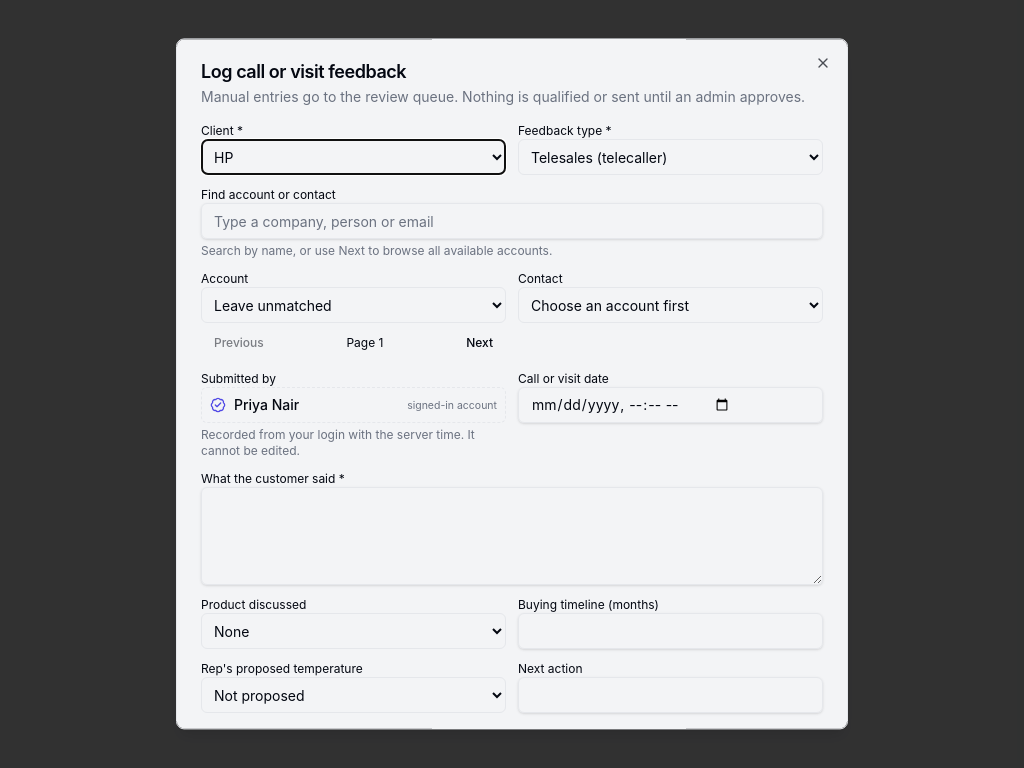
shows a contact-fetch error rather than an empty list or contacts from another account
The width and height of the screenshot is (1024, 768).
Select "Abbott" in the dropdown with test id "select-manual-account" at coordinates (354, 305), box [201,287,506,323]
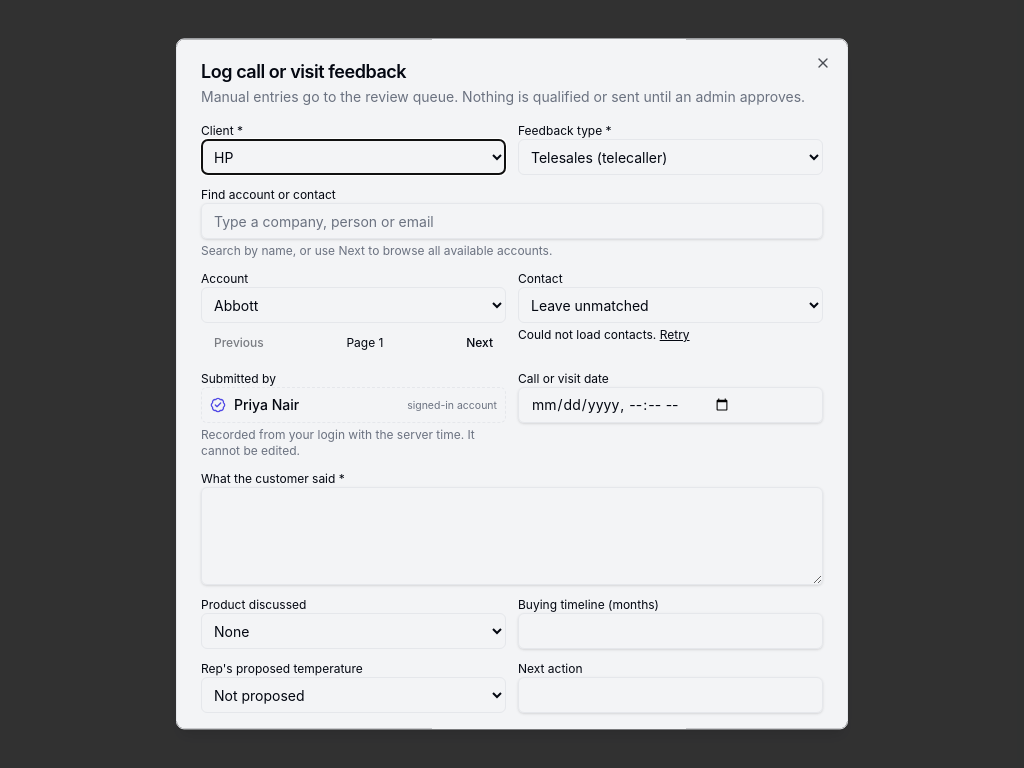
Expected: the dropdown with test id "select-manual-contact" is disabled, [518,287,823,323]
Expected: the message "Could not load contacts. Retry" is shown, [518,327,690,343]
